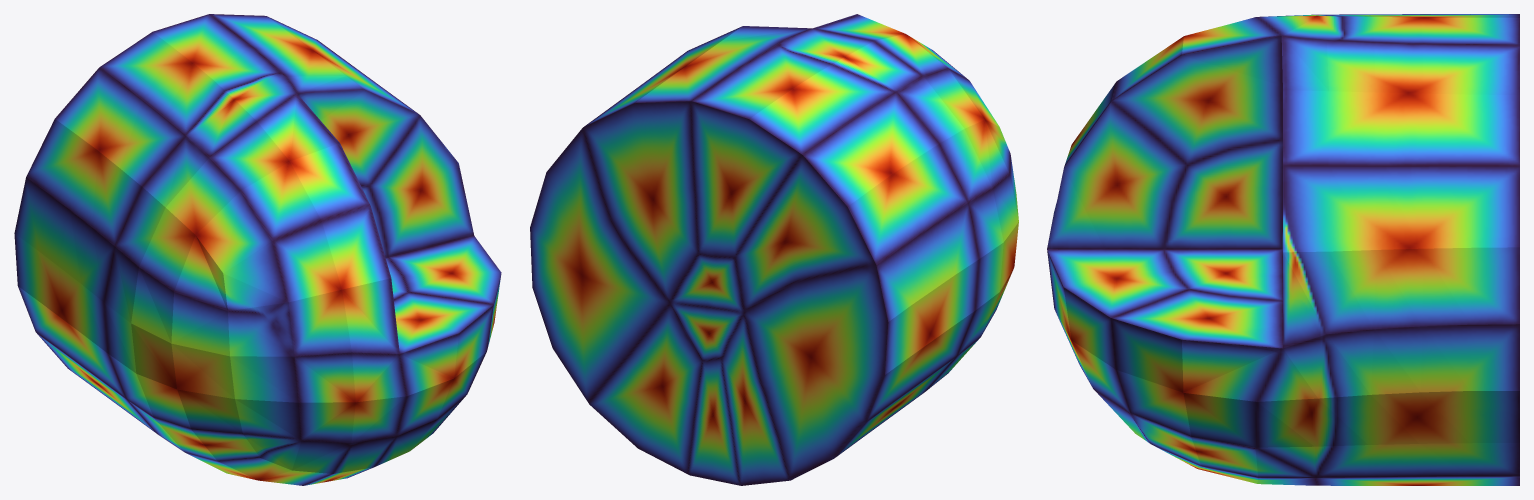
Rendered from gen2.glb.
The picture shows the model from 3 angles, left to right: view 1: azimuth 30°, elevation 25°; view 2: azimuth 150°, elevation 25°; view 3: azimuth 270°, elevation 25°; orthographic projection. The views are drawn at different scales.
Parts seen in each view (by area): view 1: Node; view 2: Node; view 3: Node.
Boxes of the visible parts, box(x1,y1,x2,y2) form: Node: box(14, 14, 501, 485); Node: box(530, 14, 1018, 485); Node: box(1047, 14, 1519, 485).
Bounding box in the file's own units: 9.98 × 9.96 × 9.98.
1 material, 1 textured.
